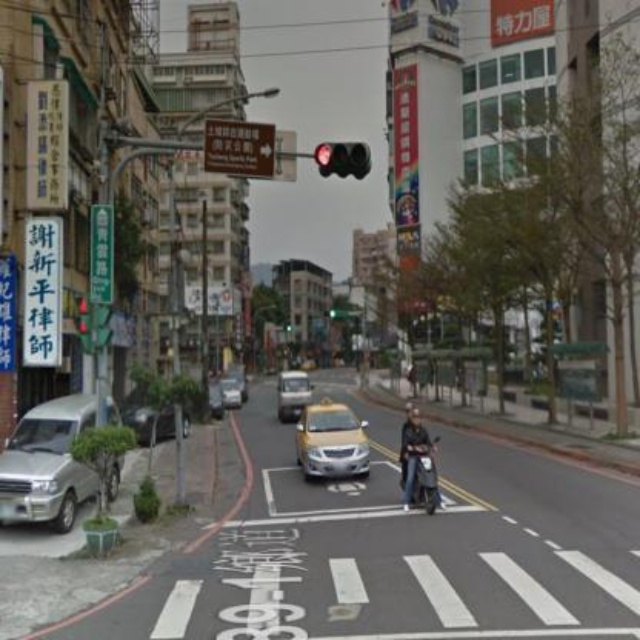Đèn xanh: (319, 307, 347, 321)
Đèn đỏ: (312, 141, 374, 176)
